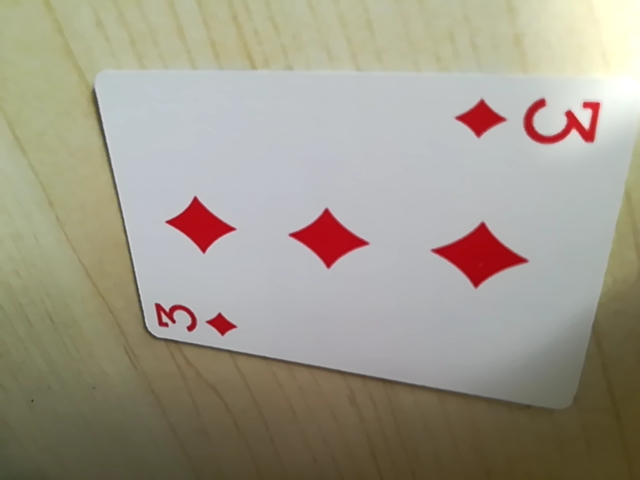fk 3: (457, 92, 600, 153), (150, 295, 245, 344)
